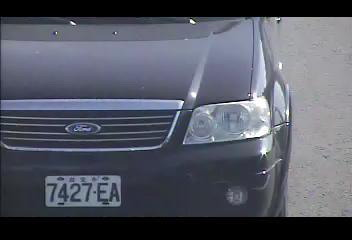plate: (43, 173, 122, 208)
